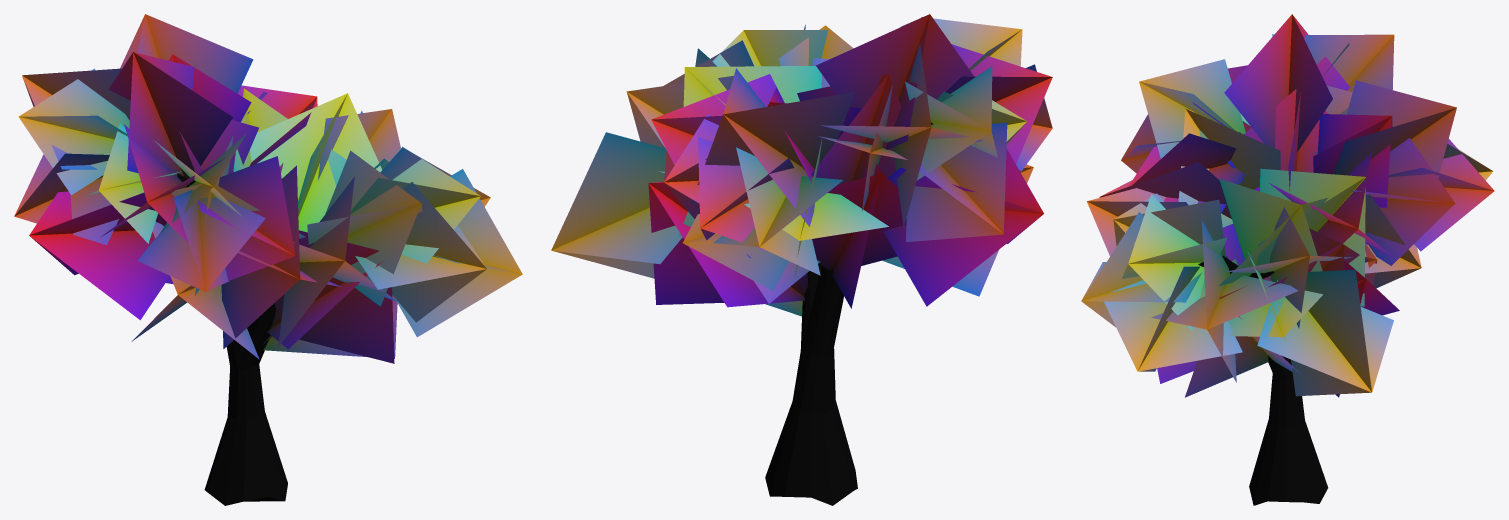
Rendered from massive_swamptree_01_b.dae.
3 renders of one model, left to right at view 1: azimuth 30°, elevation 25°; view 2: azimuth 150°, elevation 25°; view 3: azimuth 270°, elevation 25°, orthographic. The views are drawn at different scales.
Parts seen in each view (by area): view 1: swamptree128; view 2: swamptree128; view 3: swamptree128.
Boxes of the visible parts, left/top/right/bottom form: swamptree128: left=14, top=14, right=522, bottom=505; swamptree128: left=551, top=14, right=1052, bottom=505; swamptree128: left=1081, top=14, right=1494, bottom=505.
Size of what is drawn, in the model's own units: 22.29 by 20.67 by 23.84.
